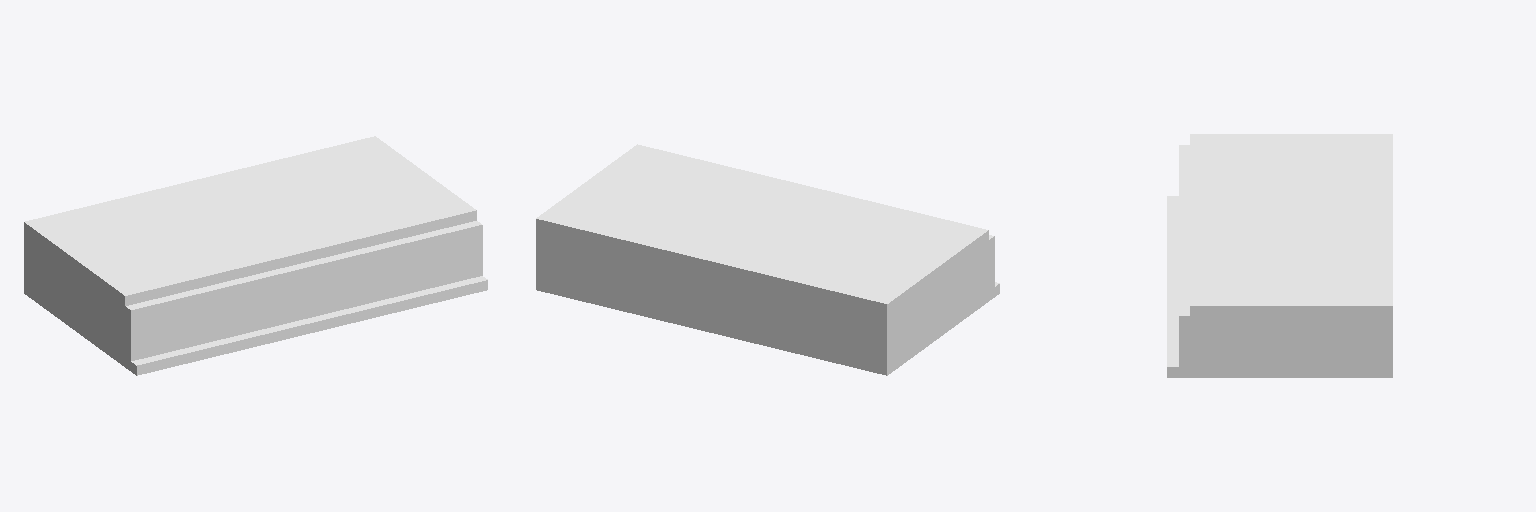
The model's file is hill.obj.
3 renders of one model, left to right at view 1: azimuth 30°, elevation 25°; view 2: azimuth 150°, elevation 25°; view 3: azimuth 270°, elevation 25°, orthographic.
Visible parts, largest first — view 1: object 1; view 2: object 1; view 3: object 1.
Part boxes in pixels (bbox=[...]): object 1: bbox=[24, 136, 487, 375]; object 1: bbox=[536, 144, 999, 375]; object 1: bbox=[1167, 134, 1392, 377].
Bounding box in the file's own units: 3.6 × 0.7 × 2.